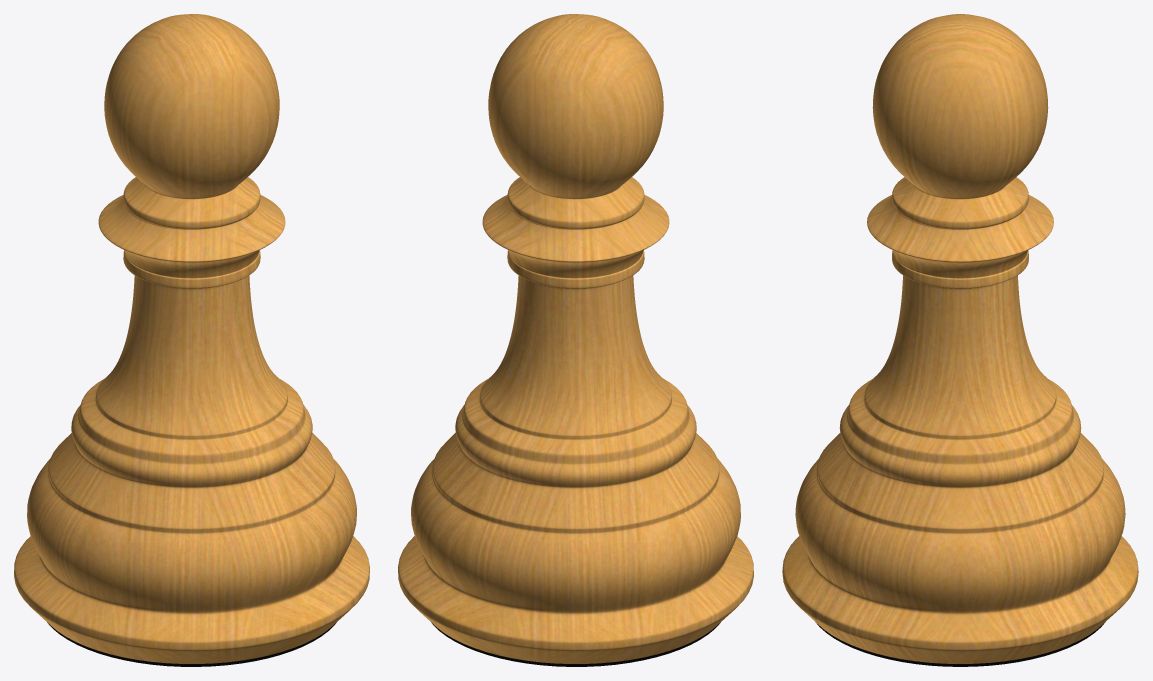
File: Pawn.obj
3 renders of one model, left to right at view 1: azimuth 30°, elevation 25°; view 2: azimuth 150°, elevation 25°; view 3: azimuth 270°, elevation 25°, orthographic.
Visible parts, largest first — view 1: Pawn; view 2: Pawn; view 3: Pawn.
Part boxes in pixels (x1=…): Pawn: x1=14, y1=14, x2=369, y2=666; Pawn: x1=398, y1=14, x2=753, y2=666; Pawn: x1=782, y1=14, x2=1138, y2=666.
Size of the model in its own units: 4.47 by 8.03 by 4.47.
1 material, 1 textured.
